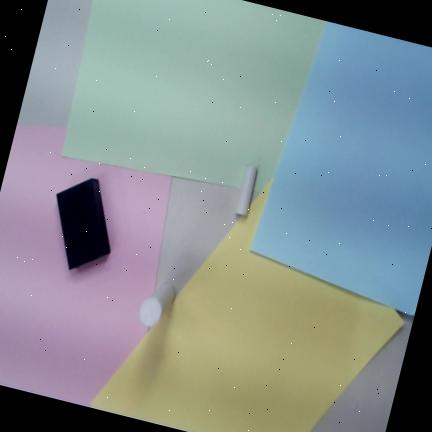Cilindro: (139, 282, 174, 326), (235, 165, 257, 215)
Paralelepipedo: (56, 177, 110, 269)
